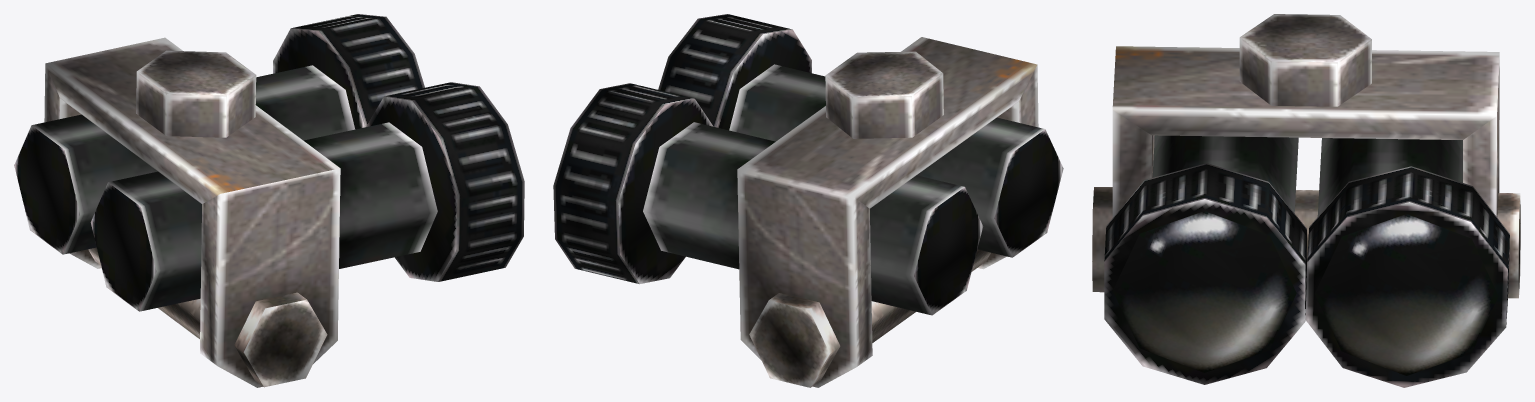
The model's file is Robot01.Head3.fbx.
The picture shows the model from 3 angles, left to right: view 1: azimuth 30°, elevation 25°; view 2: azimuth 150°, elevation 25°; view 3: azimuth 270°, elevation 25°; orthographic projection. The views are drawn at different scales.
Parts seen in each view (by area): view 1: Robot.008; view 2: Robot.008; view 3: Robot.008.
Boxes of the visible parts, x1,y1,x2,y2 form: Robot.008: (14,14,524,387); Robot.008: (553,14,1063,387); Robot.008: (1092,14,1520,387).
Size of the model in its own units: 44.29 by 28.82 by 42.71.
